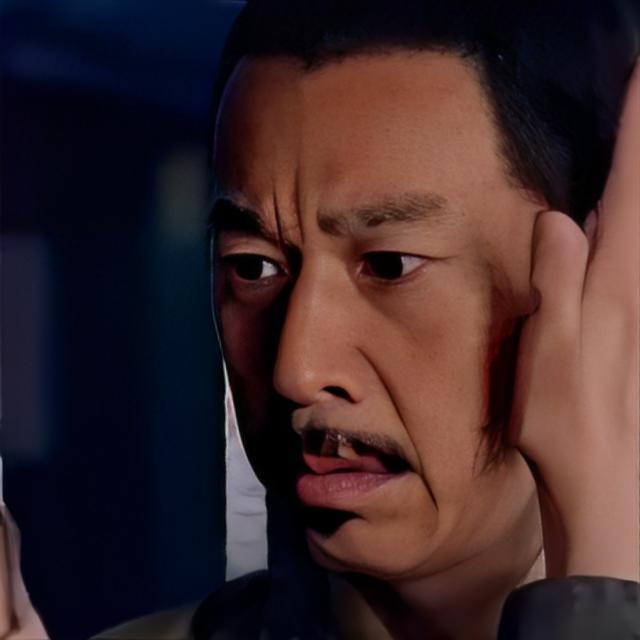fear: (206, 35, 534, 581)
